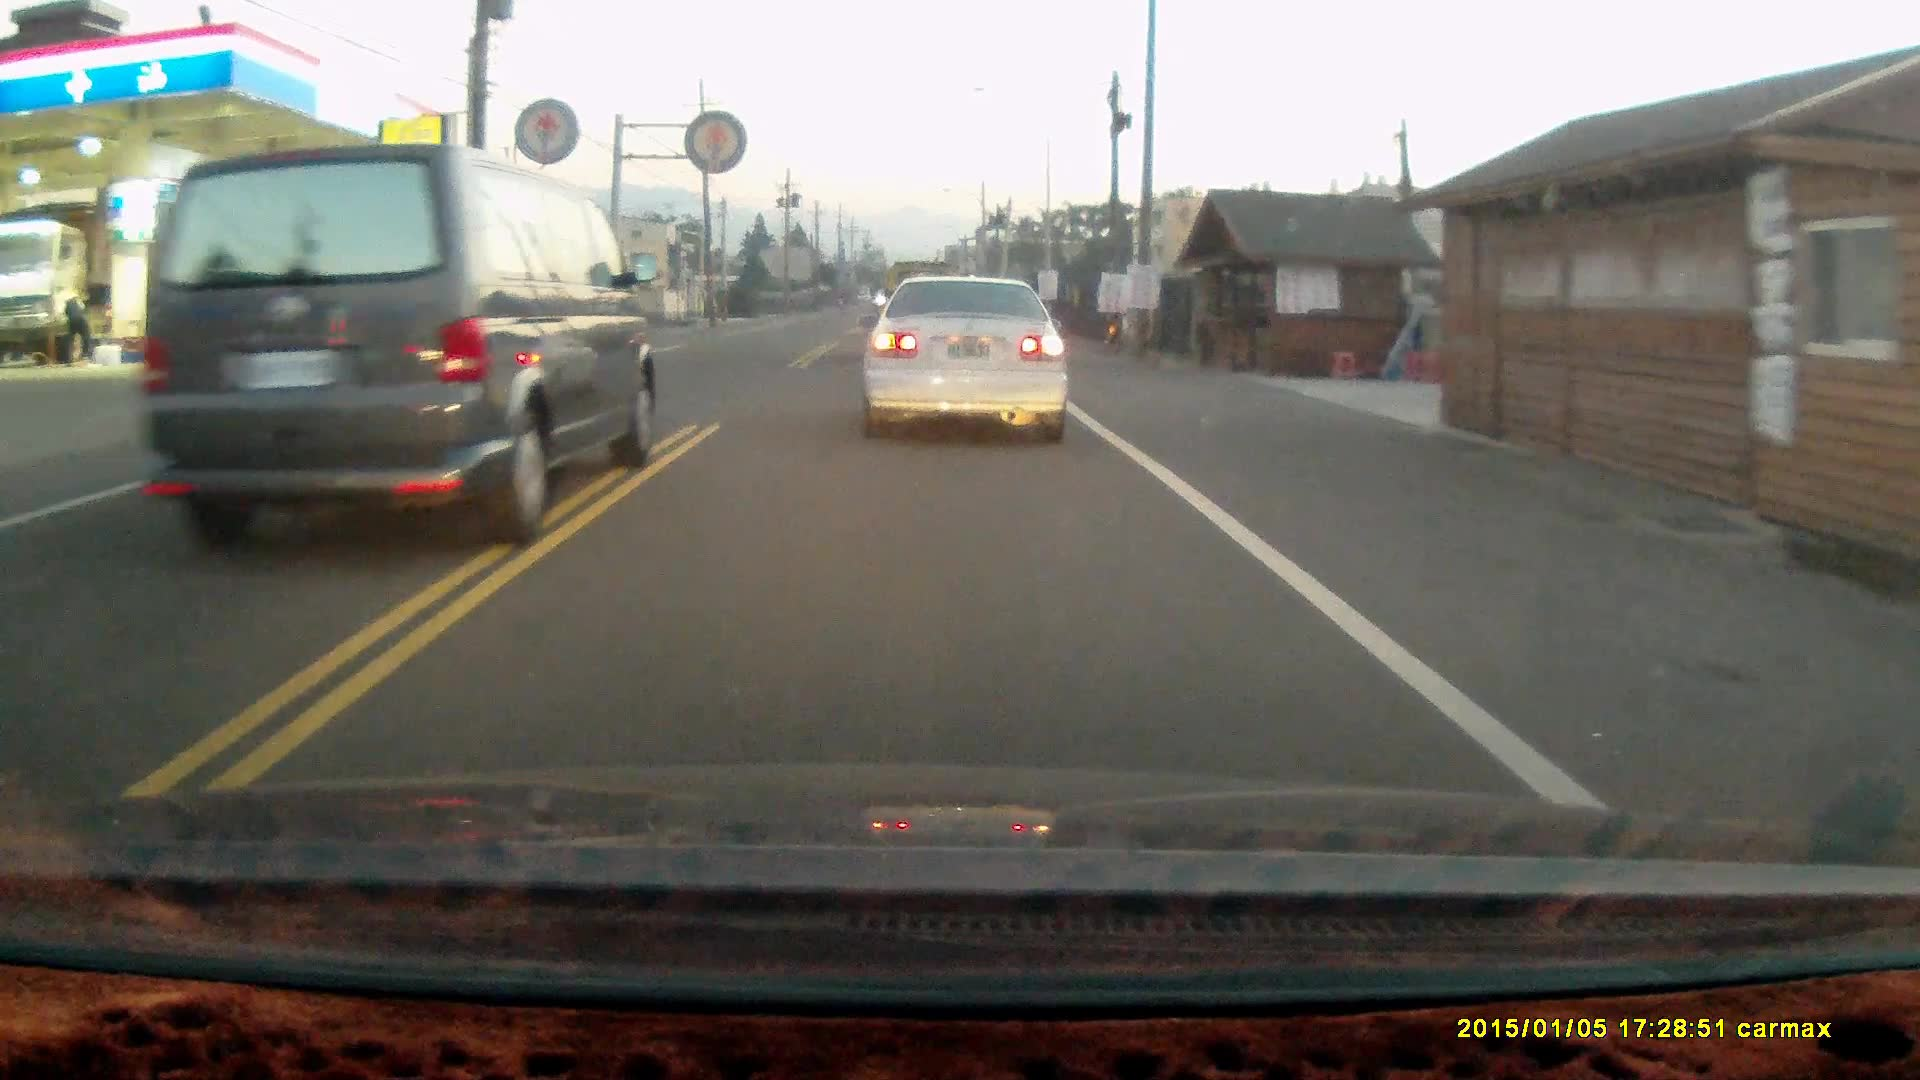pedestrian: (57, 280, 94, 367)
vehicle: (145, 149, 655, 563), (863, 280, 1071, 455), (1, 198, 142, 365)
